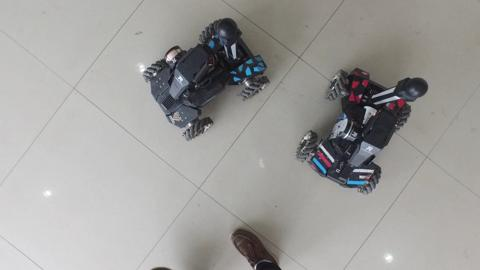chariot: (290, 62, 432, 201), (137, 14, 281, 147)
